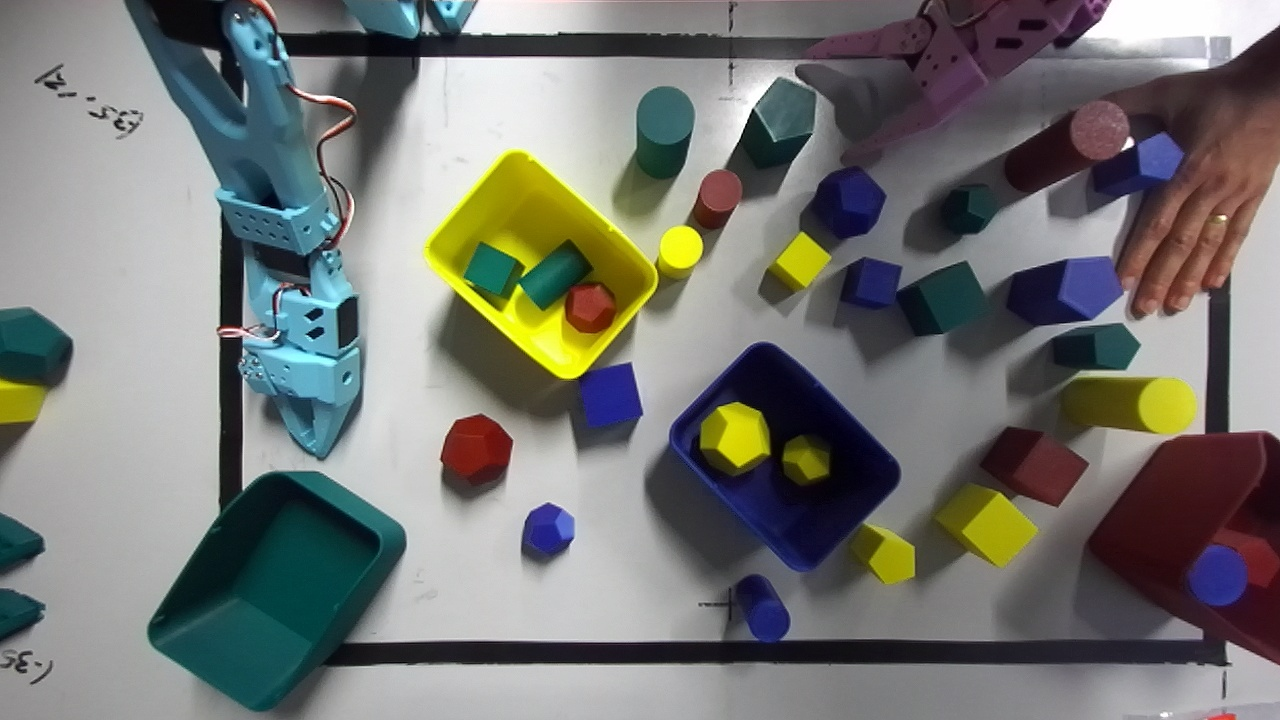bin: (150, 472, 403, 709), (424, 149, 658, 378), (669, 342, 900, 571), (1088, 431, 1279, 661)
cube: (933, 483, 1037, 566), (981, 427, 1088, 506), (897, 262, 990, 335), (578, 363, 642, 427), (767, 232, 830, 291), (840, 257, 901, 308), (464, 243, 522, 295)
cylinder: (1004, 100, 1132, 193), (1061, 374, 1196, 433), (635, 86, 694, 178), (518, 240, 591, 309), (1185, 544, 1247, 606), (734, 574, 790, 642), (693, 169, 742, 228), (656, 225, 703, 278)
dodecahedron: (810, 166, 886, 238), (699, 402, 770, 475), (440, 414, 512, 483), (942, 184, 998, 234), (522, 503, 574, 555), (565, 283, 616, 333), (782, 434, 830, 485)
hexagonal: (1007, 256, 1122, 324), (740, 77, 815, 168), (1091, 132, 1183, 197), (1051, 324, 1139, 369), (849, 523, 914, 583), (1213, 528, 1279, 587)
